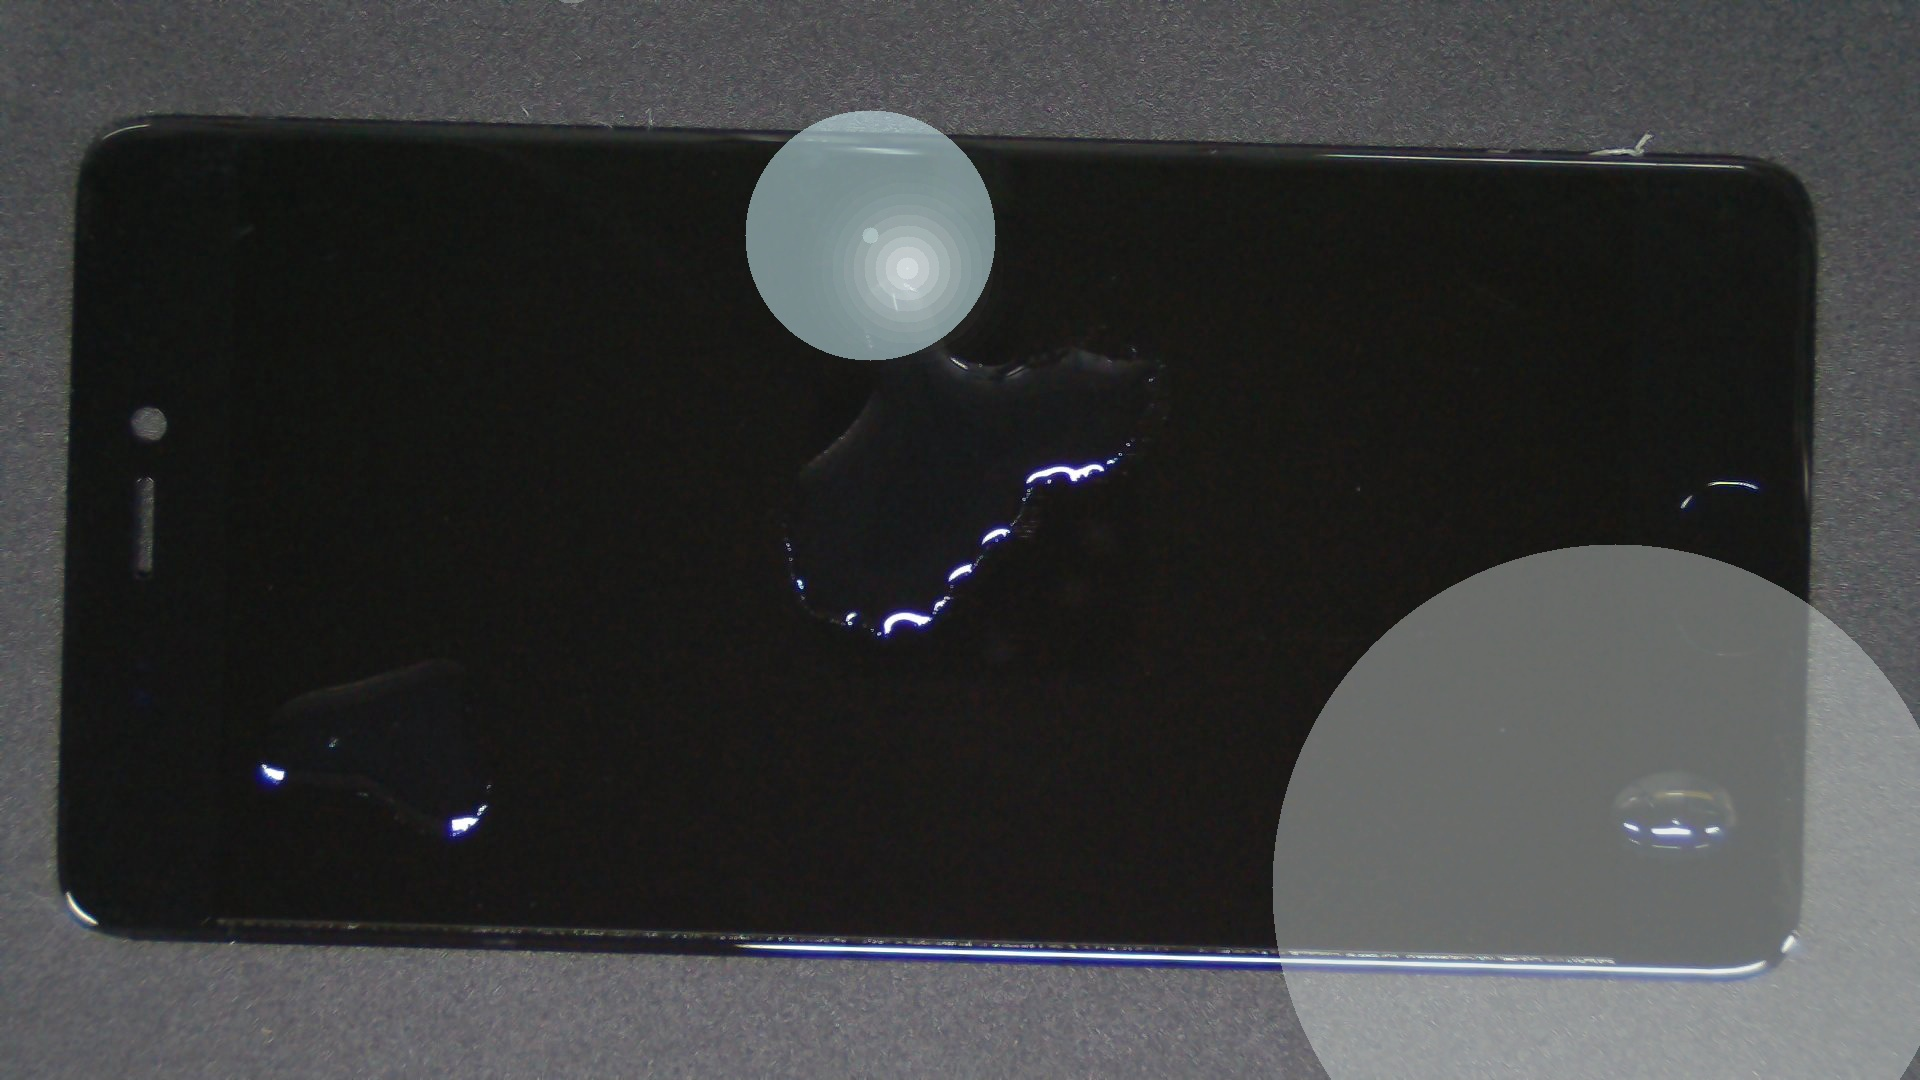oil: (837, 385, 1920, 1080), (220, 328, 658, 988), (446, 137, 1335, 414)
